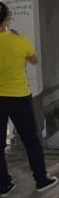boots: (35, 174, 59, 191), (0, 179, 15, 196)
